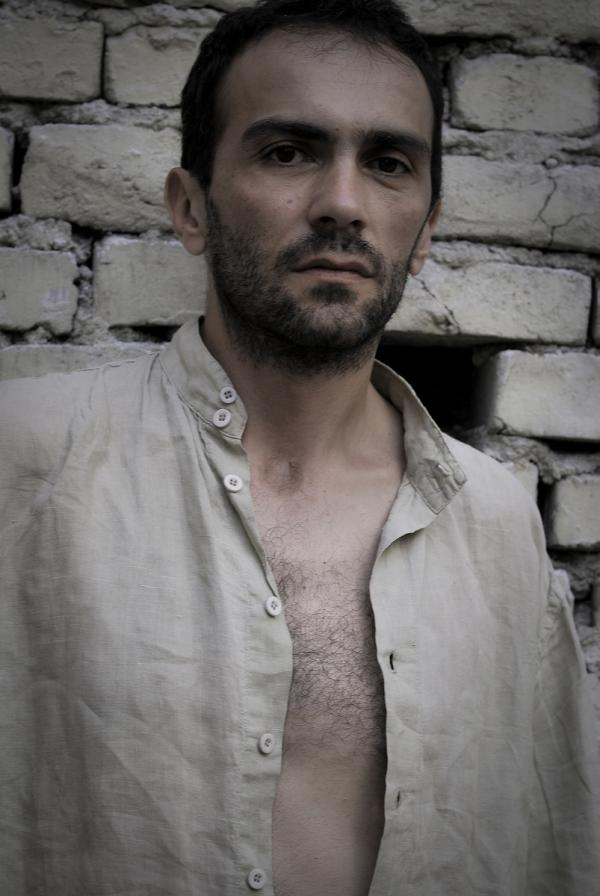bad: (200, 82, 468, 350)
